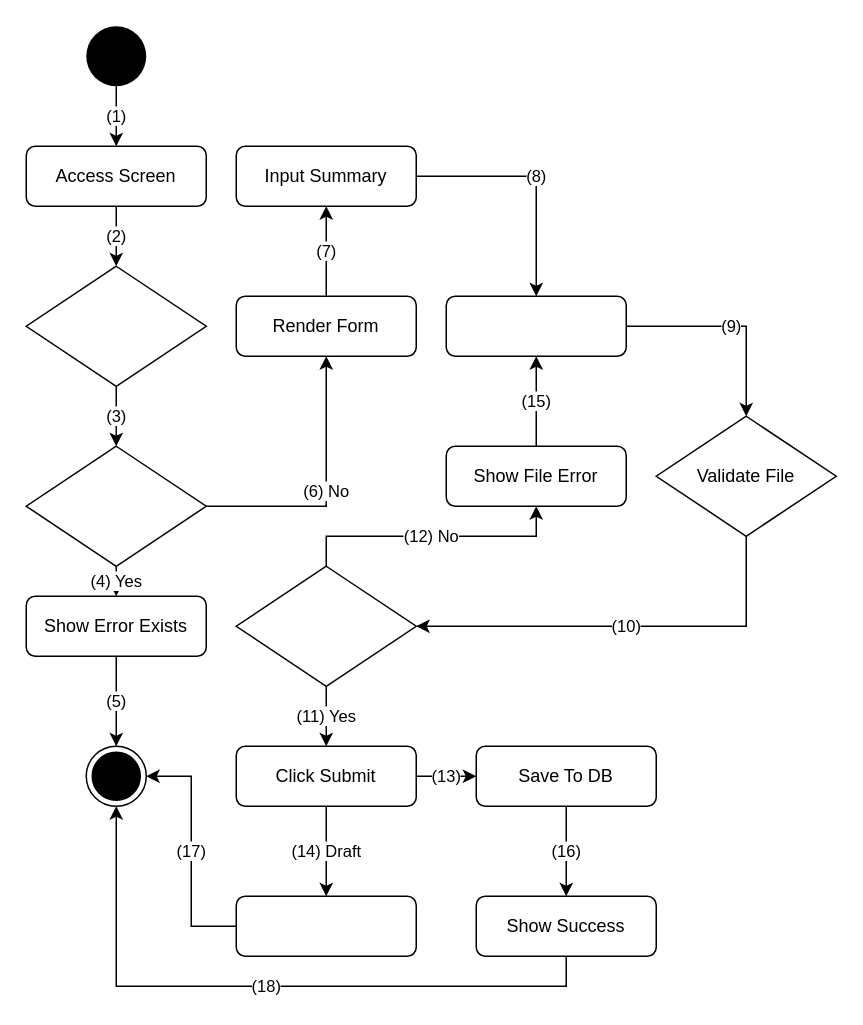
This 863x1025 diagram has some shape labels left out. Each missing label, with the centre of its shape:
"Check Existing" belongs at pixel 115 325.
"Is Submitted" belongs at pixel 115 505.
"Is Valid File" belongs at pixel 325 625.
"Save As Draft" belongs at pixel 325 925.
"Upload File" belongs at pixel 535 325.
